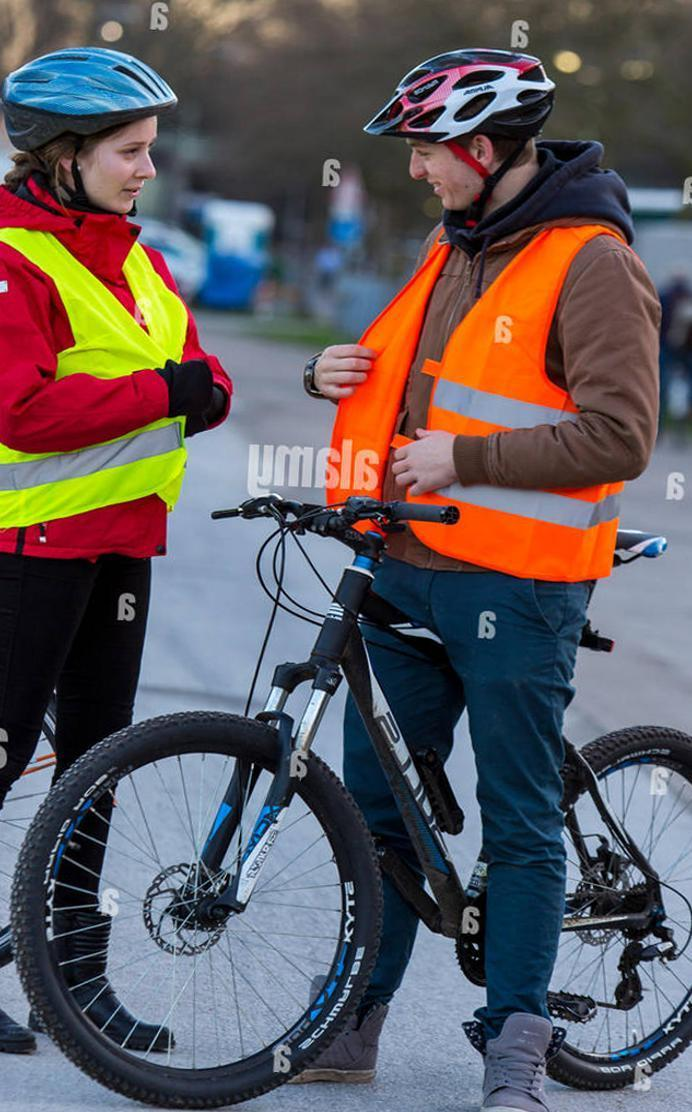Vest: (360, 204, 632, 561), (0, 219, 193, 537)
